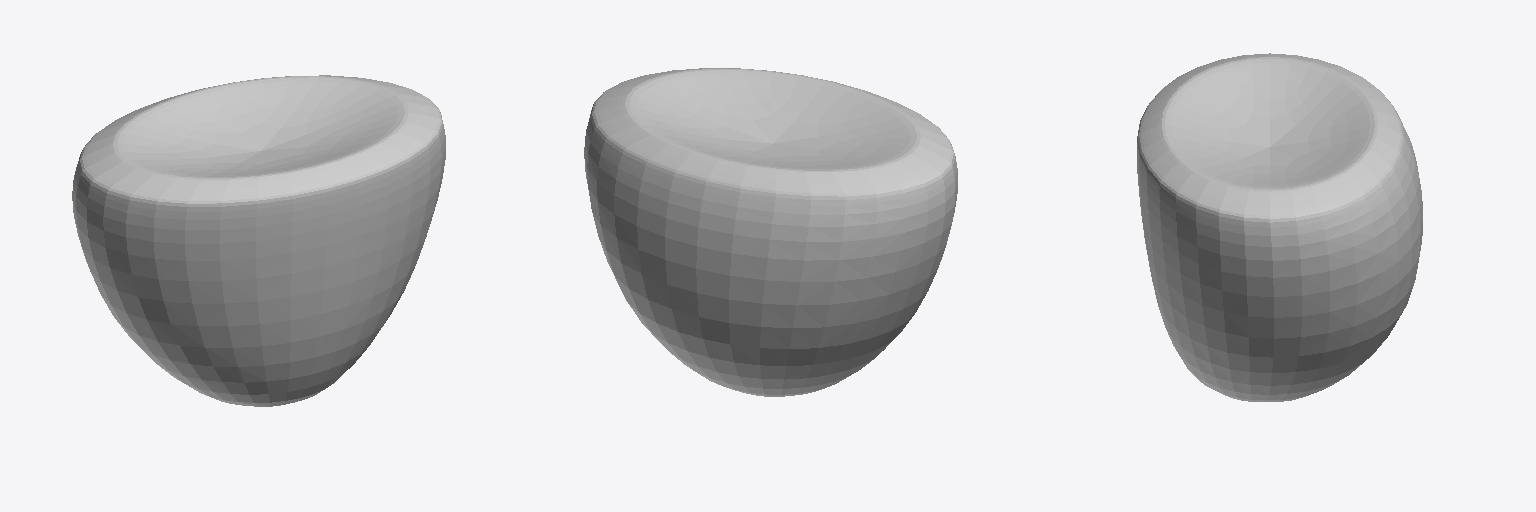
Rendered from Pelvis.obj.
3 views of the same model, side by side, from view 1: azimuth 30°, elevation 25°; view 2: azimuth 150°, elevation 25°; view 3: azimuth 270°, elevation 25° (orthographic).
Parts seen in each view (by area): view 1: GEO-Body.013_Body.013; view 2: GEO-Body.013_Body.013; view 3: GEO-Body.013_Body.013.
Boxes of the visible parts, <box> form: GEO-Body.013_Body.013: <box>72,75,445,406</box>; GEO-Body.013_Body.013: <box>584,68,957,396</box>; GEO-Body.013_Body.013: <box>1137,53,1422,401</box>.
Size of the model in its own units: 0.2618 by 0.1903 by 0.1874.